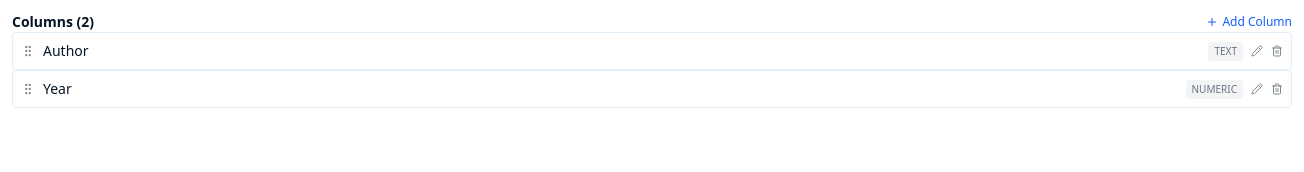
Test case: GridConfigurator › shows inline rename input when edit clicked
This screenshot has width=1304, height=172.
Click the button with test id "rename-col-col-1".
click(1257, 51)  # box [1251,45,1263,57]
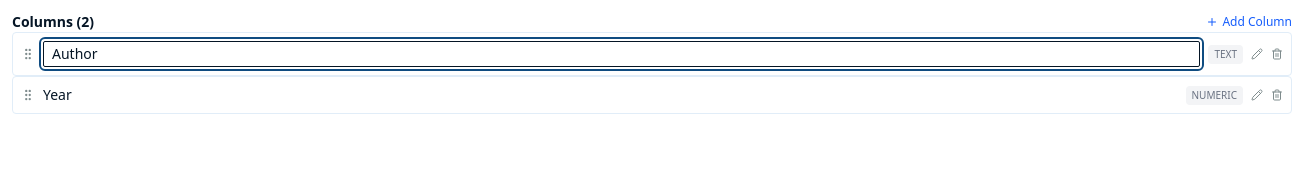
expect the field with test id "column-rename-input" is shown: met, box [43,41,1200,67]
